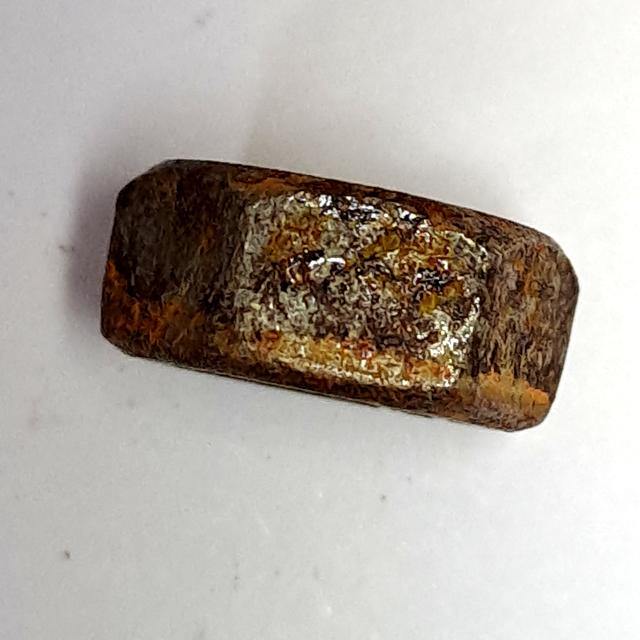Side_Rust: (81, 145, 594, 441)
